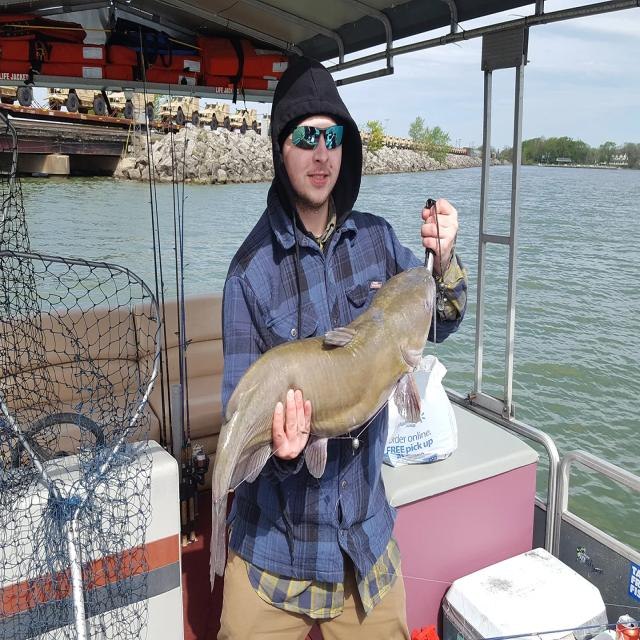Catfish - Blue: (210, 268, 436, 582)
